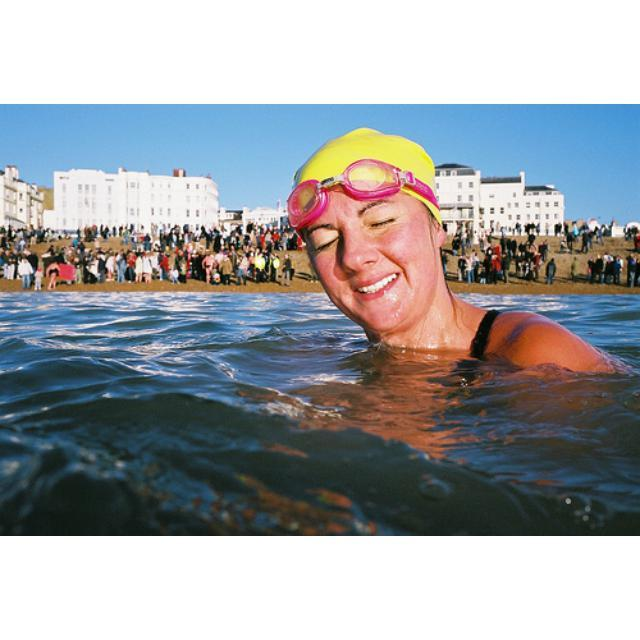human: (289, 123, 637, 384)
